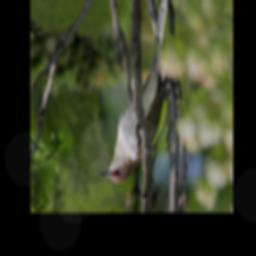Cuckoo: (97, 0, 169, 186)
